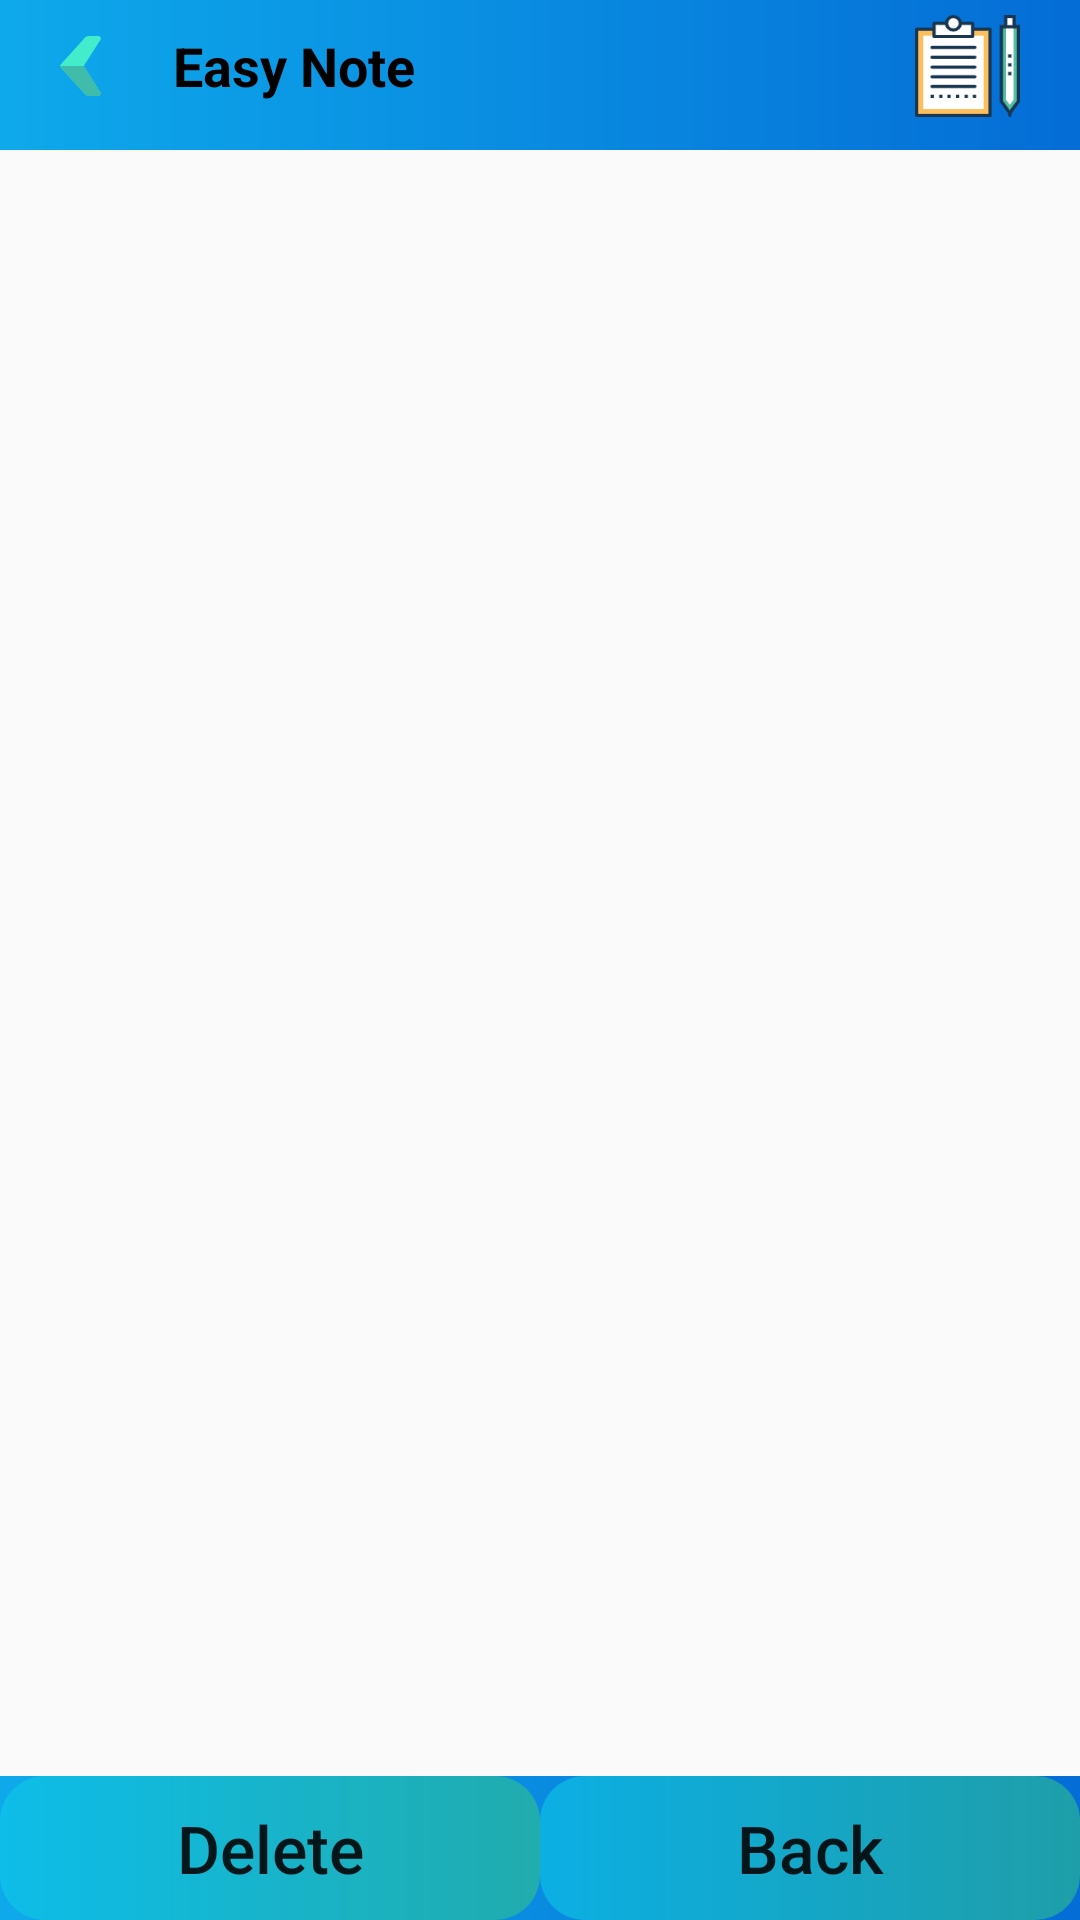

Named icons in this screenshot (1080w x 1920h) and their centers, (x=x, y=y):
backward: (x=80, y=66)
